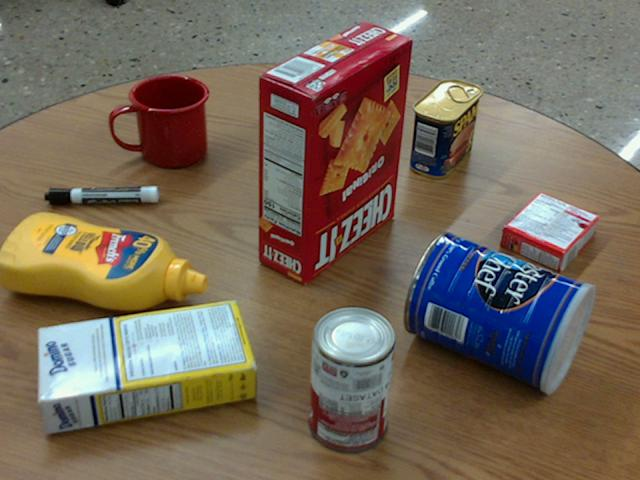cracker_box: (257, 20, 412, 283)
gelatin_box: (499, 190, 597, 270)
large_marker: (46, 185, 158, 204)
master_chef_can: (405, 230, 596, 392)
mug: (111, 75, 209, 168)
mustard_bottle: (0, 211, 207, 311)
potted_meat_can: (411, 78, 482, 178)
sugar_box: (35, 299, 254, 431)
tomato_soup_can: (311, 305, 397, 451)
tuna_fish_can: (285, 74, 350, 147)
